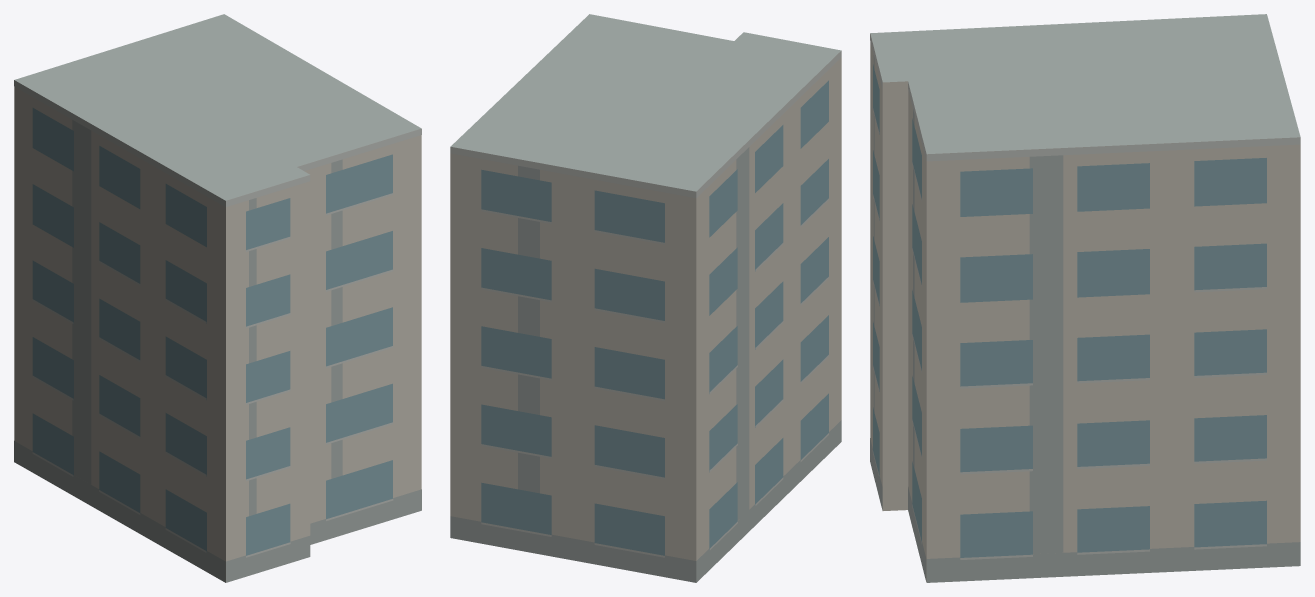
The model's file is survey-upis-32892268.glb.
3 views of the same model, side by side, from view 1: azimuth 30°, elevation 25°; view 2: azimuth 150°, elevation 25°; view 3: azimuth 270°, elevation 25° (orthographic). The views are drawn at different scales.
Parts seen in each view (by area): view 1: survey-upis-32892268.tmp; view 2: survey-upis-32892268.tmp; view 3: survey-upis-32892268.tmp.
Part boxes in pixels (x1=…): survey-upis-32892268.tmp: x1=14, y1=14, x2=421, y2=582; survey-upis-32892268.tmp: x1=450, y1=14, x2=841, y2=582; survey-upis-32892268.tmp: x1=870, y1=14, x2=1300, y2=582.
Bounding box in the file's own units: 10.11 × 14.4 × 13.11.
